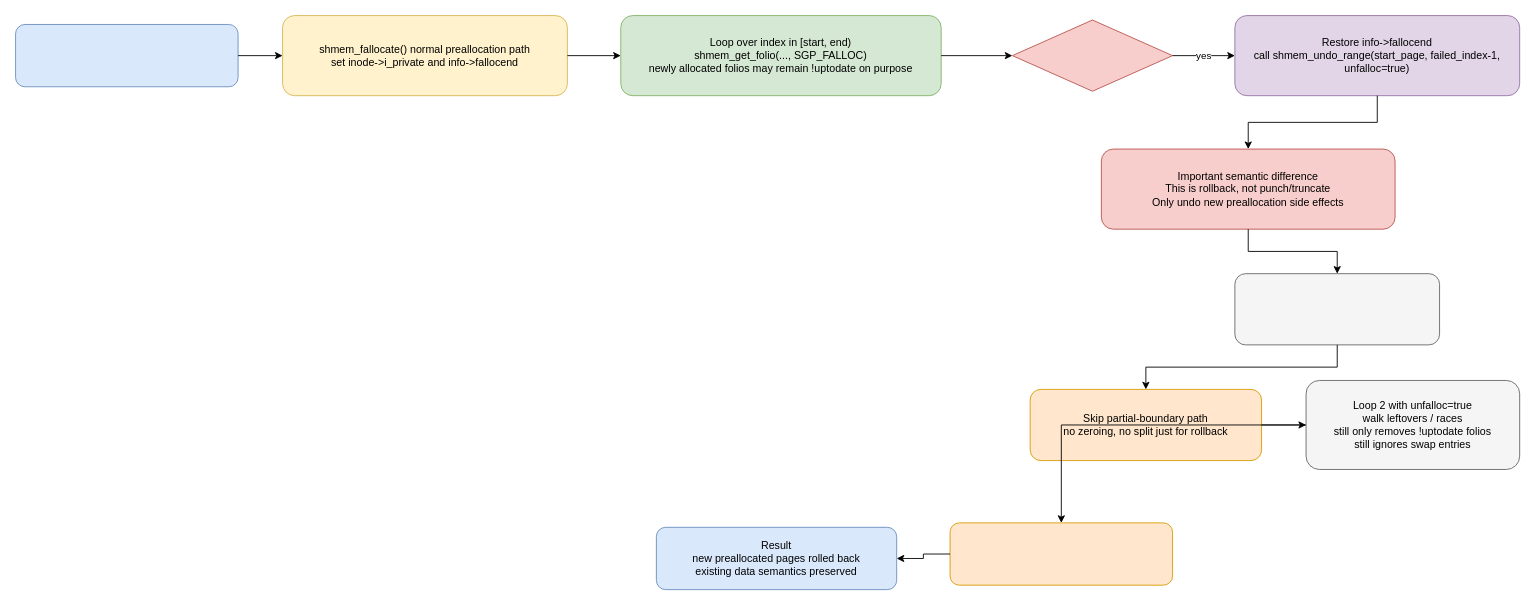
Image size: 1535x605. Some labels were removed from this diagram. The shapes that lost their labels are listed below. From the top down, each one's centre as x and y in pixels, then its label:
(x=126, y=55): User / syscall fallocate() or fallocate(KEEP_SIZE)
(x=1092, y=55): Failure? - ENOMEM / ENOSPC - fatal signal - other allocation failure
(x=1337, y=309): Loop 1 with unfalloc=true delete only !uptodate folios skip swap entries
(x=1061, y=553): Clear inode->i_private and return error
